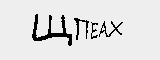А: (100, 21, 109, 40)
Е: (90, 19, 100, 41)
П: (76, 18, 86, 40)
Х: (111, 20, 123, 39)
Щ: (30, 13, 73, 44)
